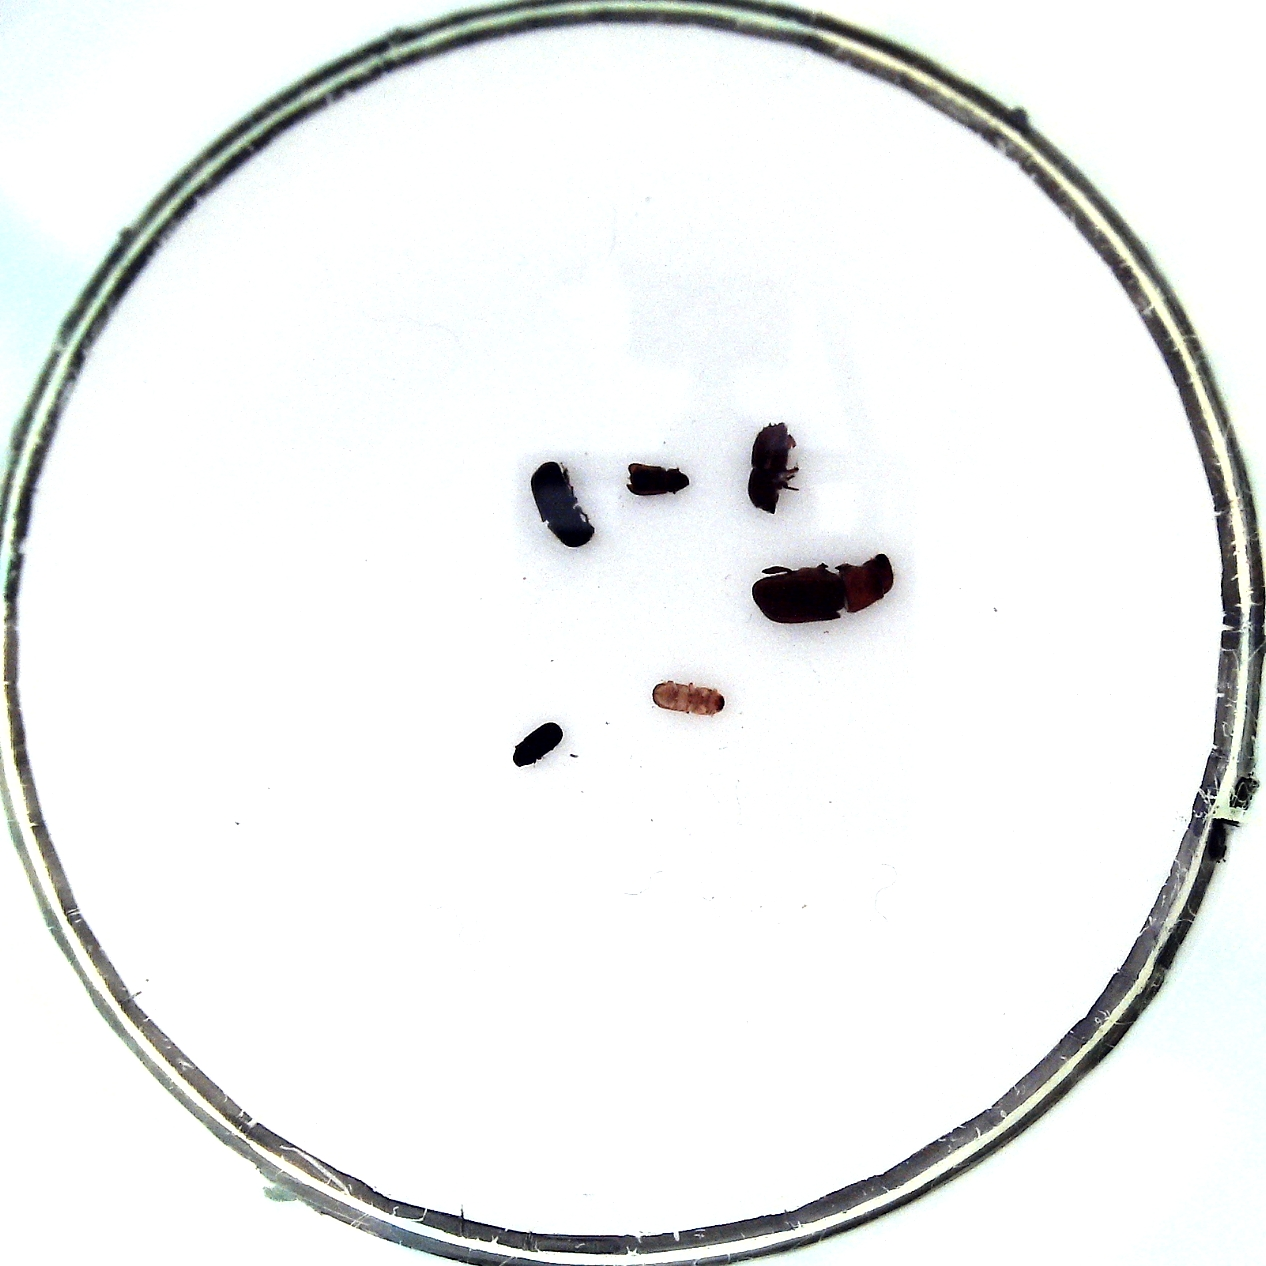Leconte: (750, 553, 893, 623)
acuminatus: (512, 722, 563, 767)
armandi: (530, 461, 592, 547)
coleoptera: (652, 681, 723, 715), (625, 463, 690, 495)
linnaeus: (745, 421, 788, 515)
